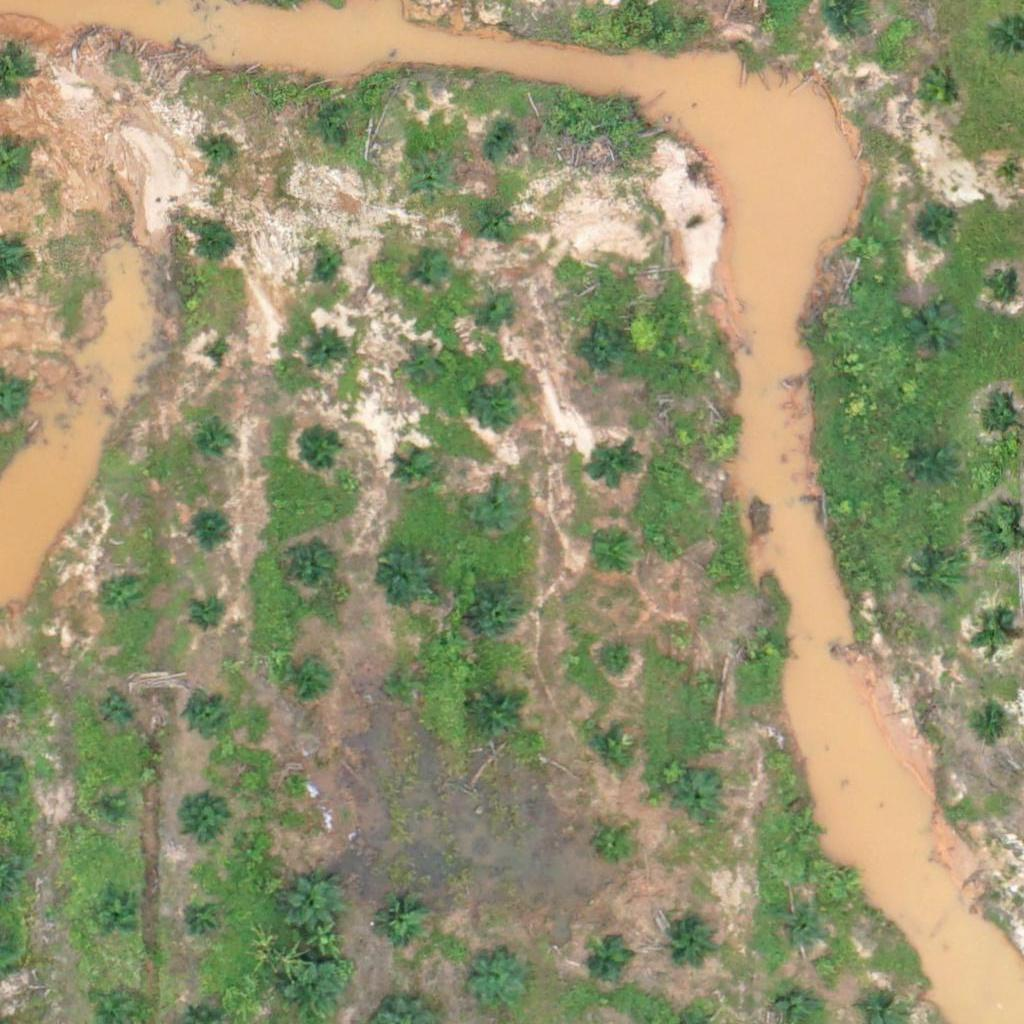Kelapa_Sawit: (370, 544, 433, 607), (368, 897, 431, 960), (467, 480, 530, 543), (282, 873, 345, 936), (466, 949, 528, 1012), (474, 587, 524, 638), (473, 690, 523, 741), (179, 792, 229, 843), (584, 722, 634, 773), (914, 67, 964, 118), (286, 541, 336, 592), (298, 422, 348, 473), (475, 378, 525, 428), (668, 910, 718, 960), (586, 935, 636, 985), (775, 905, 825, 955), (674, 774, 724, 824), (179, 894, 229, 944), (92, 890, 142, 940), (588, 442, 638, 492), (586, 532, 636, 582), (910, 307, 960, 357), (579, 327, 629, 377), (912, 558, 962, 608), (783, 812, 821, 850), (595, 823, 633, 861), (90, 789, 128, 827), (973, 613, 1011, 651), (974, 704, 1012, 742), (687, 664, 725, 702), (697, 551, 735, 589), (703, 426, 741, 464), (914, 208, 952, 246), (201, 130, 239, 168), (195, 516, 233, 554), (189, 596, 227, 634), (313, 244, 351, 282), (481, 286, 519, 324), (481, 199, 519, 237), (480, 124, 518, 162), (289, 660, 327, 698), (751, 626, 788, 664), (914, 446, 951, 484), (191, 225, 229, 262), (200, 341, 238, 378), (197, 425, 235, 462), (309, 328, 347, 365), (324, 124, 361, 162), (409, 161, 446, 199), (414, 253, 451, 291), (404, 349, 441, 387), (102, 573, 139, 611), (385, 666, 422, 704), (186, 692, 223, 730), (94, 690, 131, 728), (597, 645, 634, 682), (395, 453, 432, 490), (993, 275, 1018, 300)
